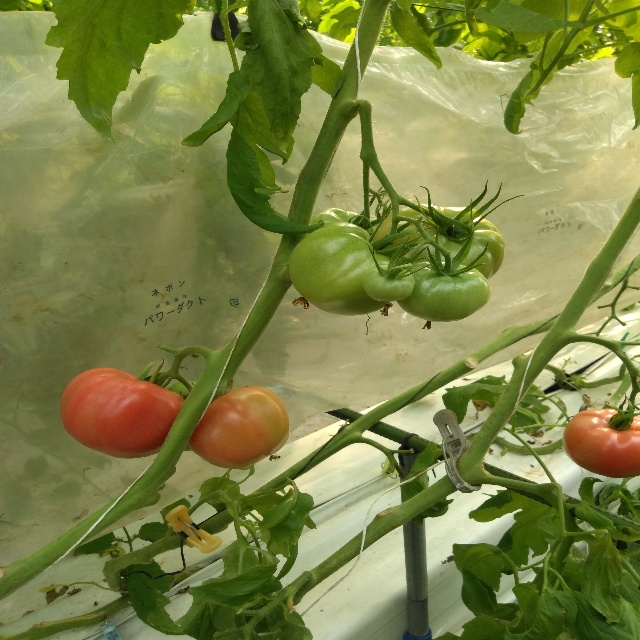b_fully_ripened: (59, 367, 185, 459)
b_green: (289, 222, 403, 316), (373, 204, 505, 279), (396, 261, 492, 322), (305, 207, 384, 238), (362, 266, 415, 302)
b_half_ripened: (188, 386, 290, 469), (562, 409, 640, 478)
